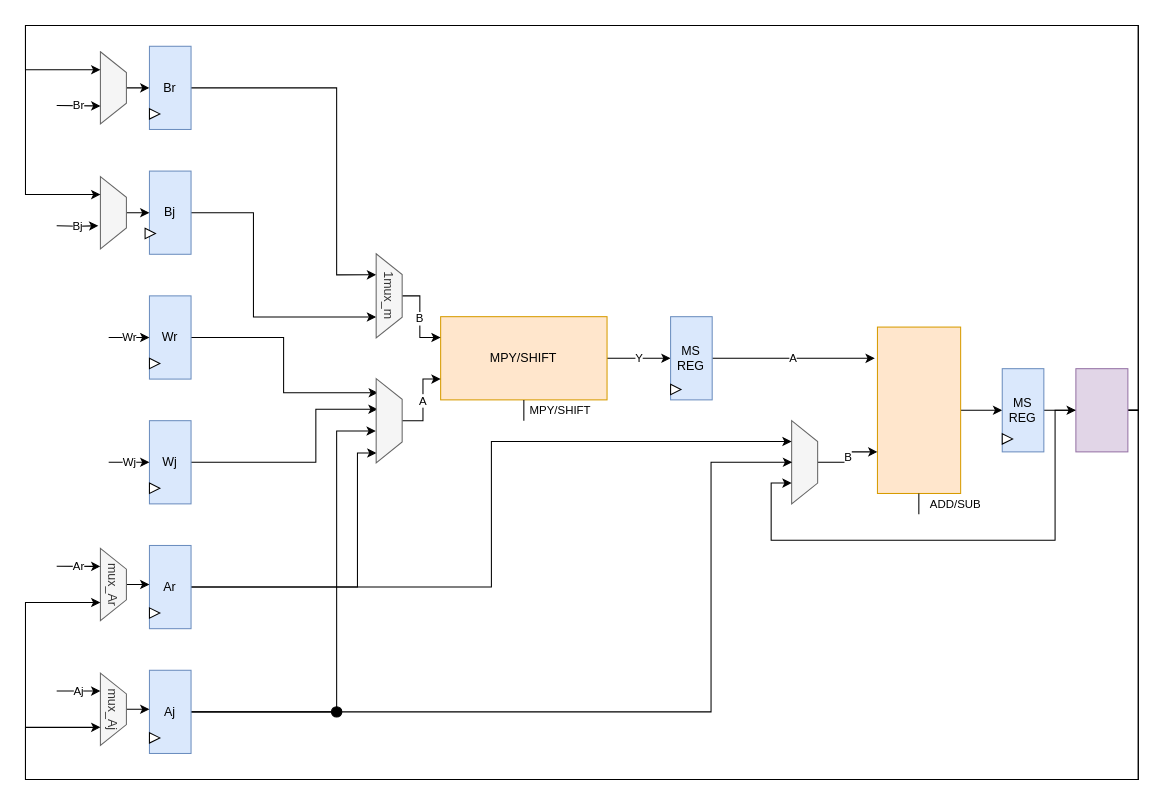
The diagram is 1165 pixels wide and 806 high, and some of its shapes have lost their labels. Each missing label, with the centre of its shape:
"1mux_a1" goes at (x=804, y=462).
"2mux_m" goes at (x=388, y=420).
"ADDER 1" goes at (x=918, y=409).
"mux_Bj" goes at (x=112, y=212).
"mux_br" goes at (x=112, y=87).
"ROUND" goes at (x=1101, y=410).
